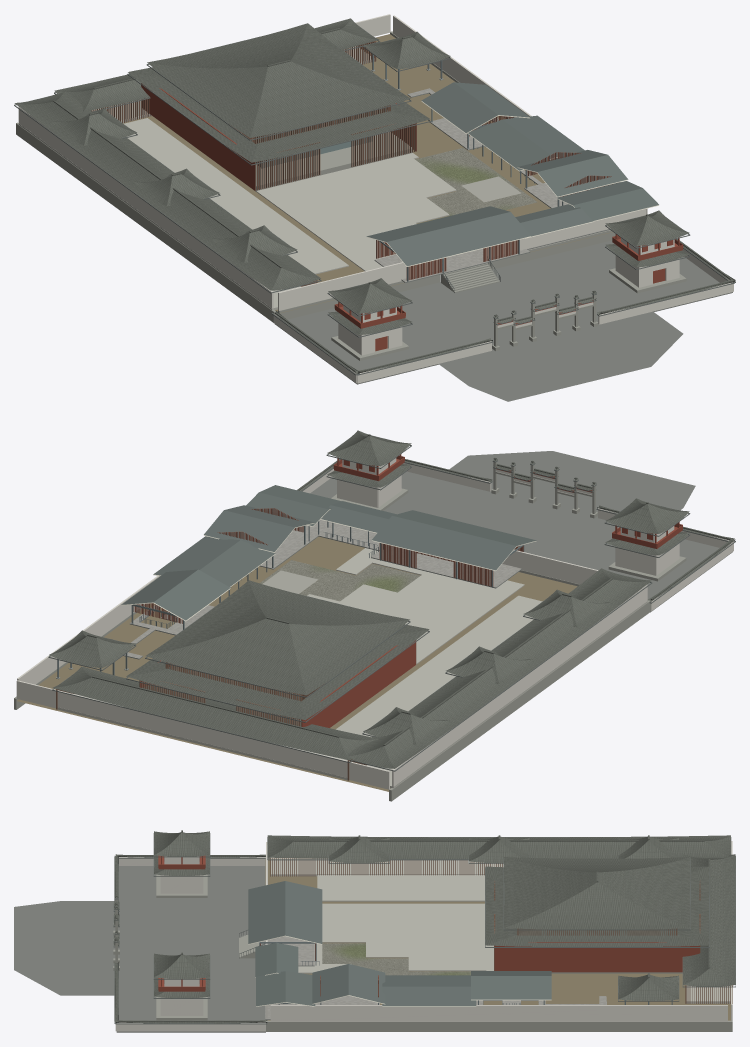
Rendered from shangqing-court-route-cd-support-v1.glb.
3 renders of one model, top to bottom at view 1: azimuth 30°, elevation 25°; view 2: azimuth 150°, elevation 25°; view 3: azimuth 270°, elevation 25°, orthographic. The views are drawn at different scales.
Parts seen in each view (by area): view 1: Existing context - 1990s front court paving, Existing context - main hipped roof, Context court paving - exposed plan area removed, Existing context - south apron, Existing context - west exhibition gallery roof, Unmodelled archaeology and site datum, Existing context - main lower eaves, Existing context - west marking court, Existing context - gallery accent roof, Southern entrance pavilion roof, Existing context - outer white gallery wall, Existing context - south white gallery wall (+28 smaller); view 2: Existing context - main hipped roof, Existing context - 1990s front court paving, Existing context - west exhibition gallery roof, Existing context - north return gallery roof, Context court paving - exposed plan area removed, Existing context - south apron, Unmodelled archaeology and site datum, Existing context - main lower eaves, Existing context - north white gallery wall, Existing context - gallery accent roof, Existing context - west marking court, Existing context - outer white gallery wall (+29 smaller); view 3: Existing context - 1990s front court paving, Existing context - main hipped roof, Context court paving - exposed plan area removed, Existing context - south apron, Existing context - outer white gallery wall, Existing context - west exhibition gallery roof, Existing context - main lower eaves, Existing context - outer retaining wall, Existing context - main hall red side cladding, Existing context - gallery accent roof, Existing context - north return gallery roof, Existing context - west marking court (+32 smaller).
Boxes of the visible parts, <box> form: Existing context - 1990s front court paving: <box>275,240,732,384</box>; Existing context - main hipped roof: <box>147,23,410,137</box>; Context court paving - exposed plan area removed: <box>255,153,456,271</box>; Existing context - south apron: <box>439,311,683,401</box>; Existing context - west exhibition gallery roof: <box>14,90,320,290</box>; Unmodelled archaeology and site datum: <box>123,34,612,313</box>; Existing context - main lower eaves: <box>128,67,430,162</box>; Existing context - west marking court: <box>123,118,348,274</box>; Existing context - gallery accent roof: <box>50,31,450,262</box>; Southern entrance pavilion roof: <box>366,206,530,266</box>; Existing context - outer white gallery wall: <box>19,15,647,309</box>; Existing context - south white gallery wall: <box>278,209,645,310</box>; Existing context - main hipped roof: <box>146,580,409,695</box>; Existing context - 1990s front court paving: <box>310,471,732,612</box>; Existing context - west exhibition gallery roof: <box>344,568,651,768</box>; Existing context - north return gallery roof: <box>52,666,378,760</box>; Context court paving - exposed plan area removed: <box>307,548,524,664</box>; Existing context - south apron: <box>449,451,695,517</box>; Unmodelled archaeology and site datum: <box>17,536,577,791</box>; Existing context - main lower eaves: <box>126,624,429,720</box>; Existing context - north white gallery wall: <box>16,680,389,789</box>; Existing context - gallery accent roof: <box>49,589,610,744</box>; Existing context - west marking court: <box>336,595,542,737</box>; Existing context - outer white gallery wall: <box>17,575,647,787</box>; Existing context - 1990s front court paving: <box>116,866,265,1032</box>; Existing context - main hipped roof: <box>504,857,690,929</box>; Context court paving - exposed plan area removed: <box>298,903,493,973</box>; Existing context - south apron: <box>14,901,115,995</box>; Existing context - outer white gallery wall: <box>270,1005,727,1021</box>; Existing context - west exhibition gallery roof: <box>267,835,730,859</box>; Existing context - main lower eaves: <box>485,866,709,946</box>; Existing context - outer retaining wall: <box>266,857,732,1031</box>; Existing context - main hall red side cladding: <box>494,942,699,972</box>; Existing context - gallery accent roof: <box>329,836,678,1000</box>; Existing context - north return gallery roof: <box>683,854,735,986</box>; Existing context - west marking court: <box>317,875,484,901</box>.
Bounding box in the file's own units: 85.49 × 17.3 × 155.
20 materials, 3 textured.
